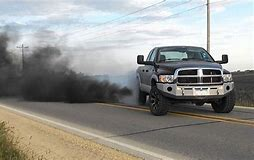smoke: (1, 45, 133, 104)
